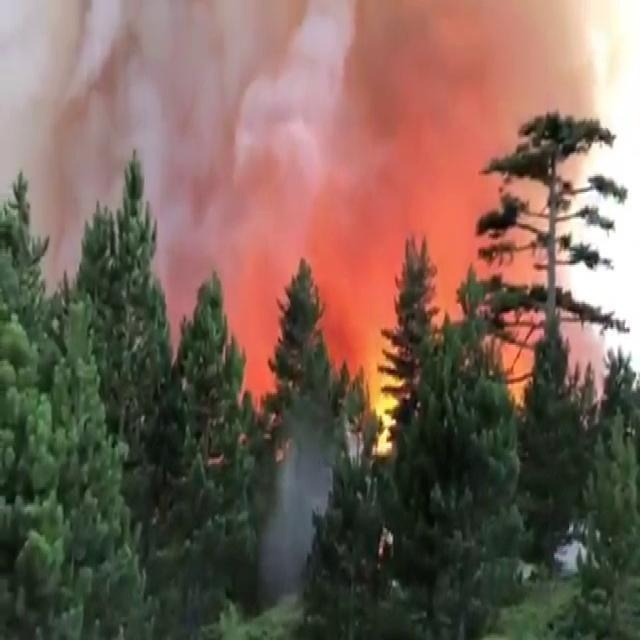Fire: (212, 156, 528, 460)
Smoke: (244, 0, 637, 89), (0, 23, 231, 163), (23, 178, 112, 281)
